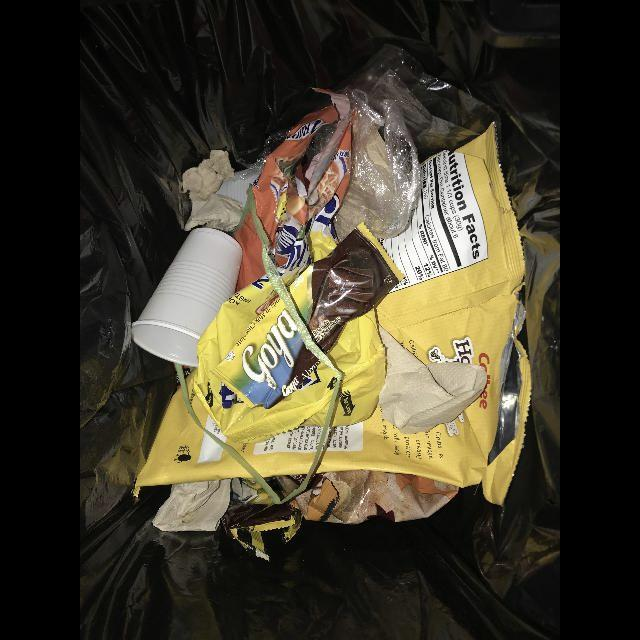food_wrapper: (132, 121, 532, 505), (197, 178, 387, 445), (212, 221, 405, 406), (232, 88, 354, 293), (276, 471, 458, 524), (221, 502, 302, 557)
paper: (377, 321, 487, 434), (182, 151, 244, 230), (151, 479, 235, 532)
plastic_bag: (332, 88, 421, 241)
plastic_container: (130, 225, 243, 367)
